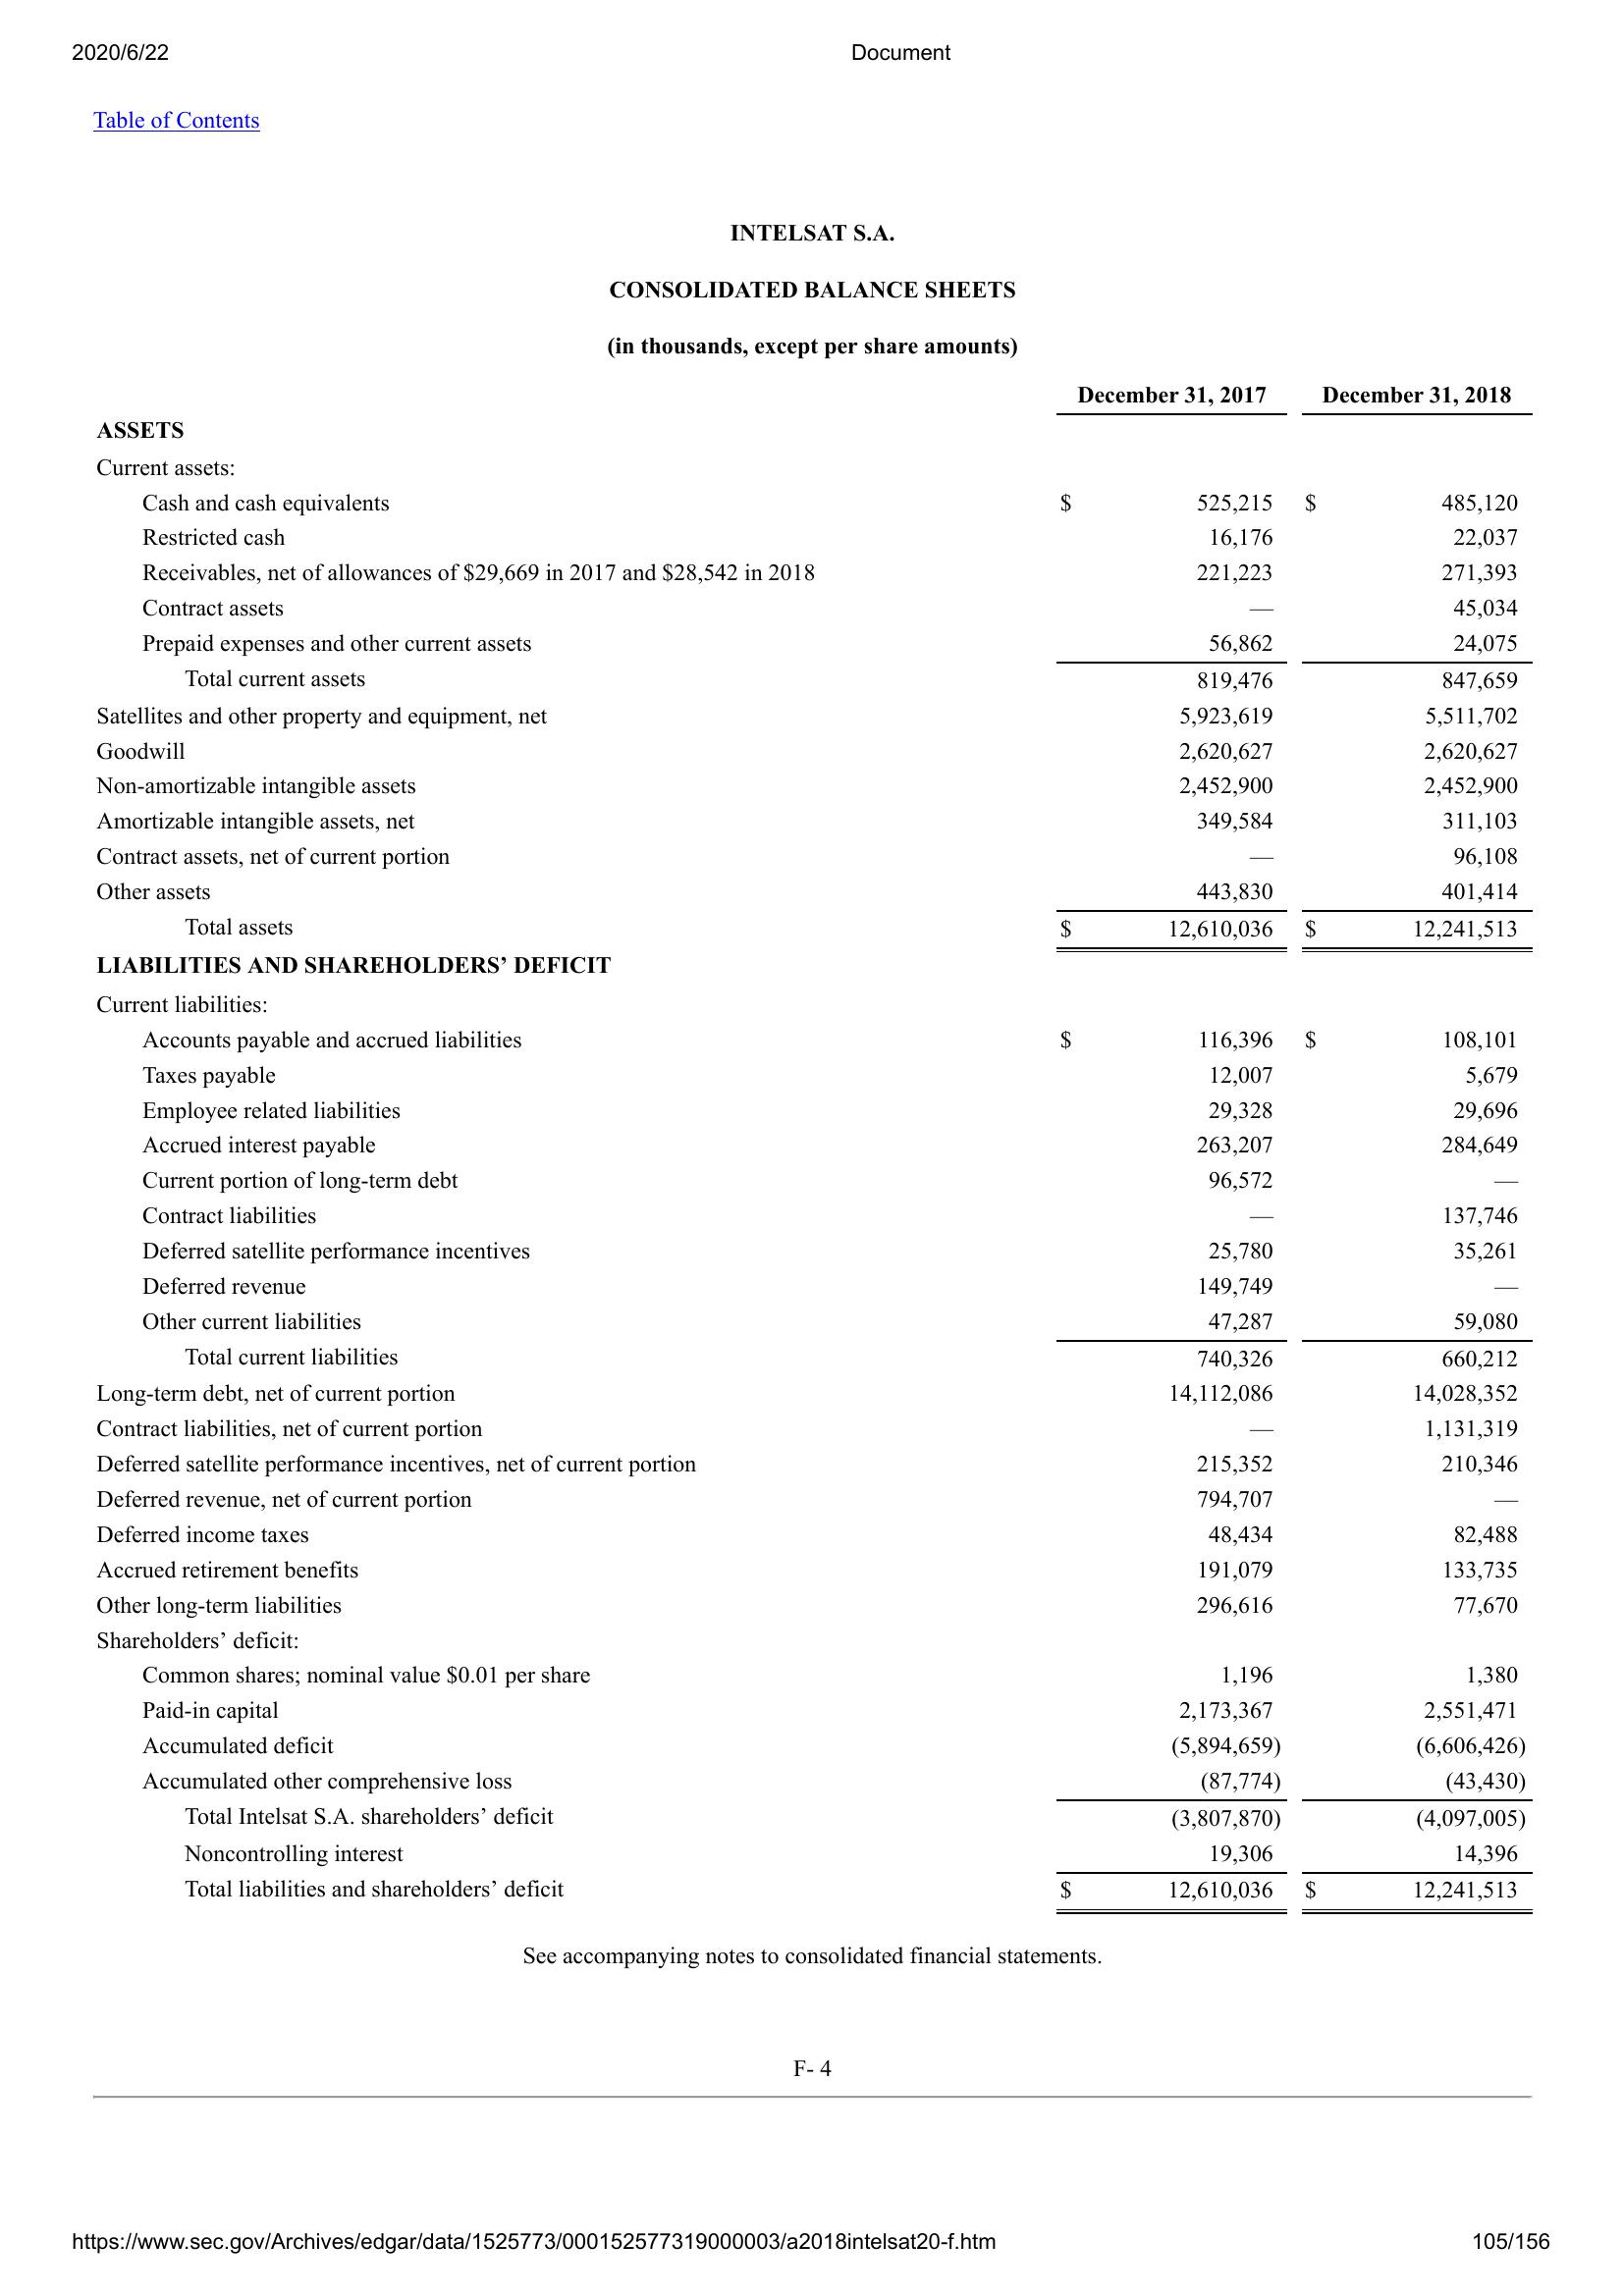table: (65, 990, 1540, 1920), (70, 381, 1540, 957)
